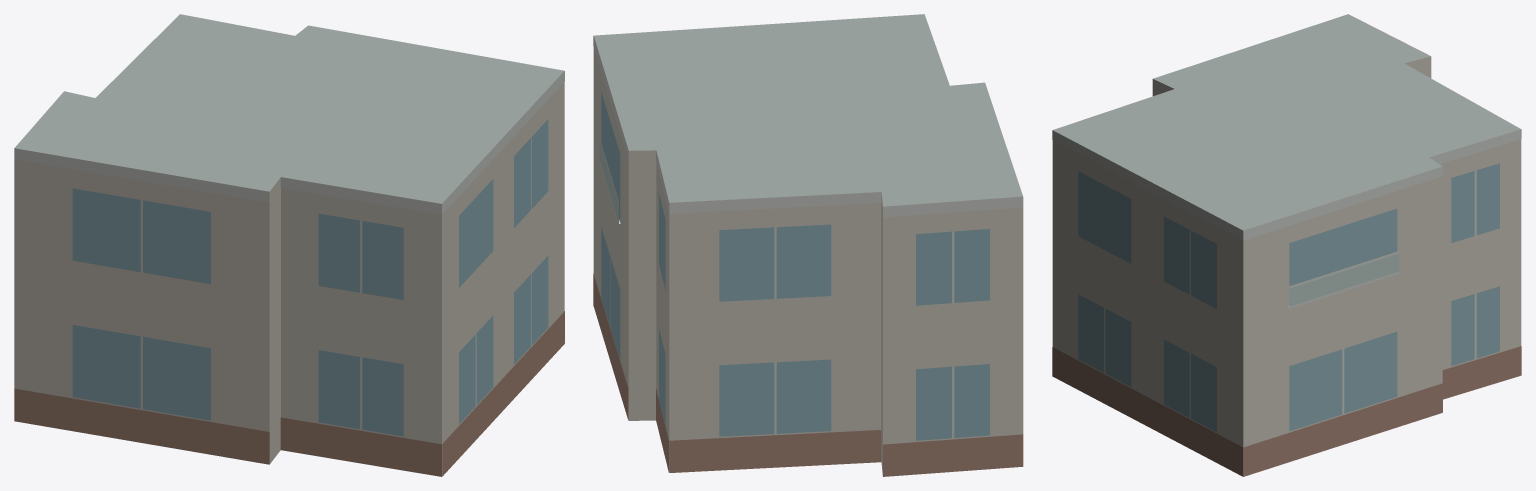
The model's file is survey-upis-32534475.glb.
3 renders of one model, left to right at view 1: azimuth 30°, elevation 25°; view 2: azimuth 150°, elevation 25°; view 3: azimuth 270°, elevation 25°, orthographic. The views are drawn at different scales.
Visible parts, largest first — view 1: survey-upis-32534475.tmp; view 2: survey-upis-32534475.tmp; view 3: survey-upis-32534475.tmp.
Part boxes in pixels (left/top/right/bottom): survey-upis-32534475.tmp: left=14, top=14, right=564, bottom=476; survey-upis-32534475.tmp: left=593, top=14, right=1023, bottom=476; survey-upis-32534475.tmp: left=1052, top=14, right=1521, bottom=476.
Bounding box in the file's own units: 11.52 × 6.1 × 10.54.
